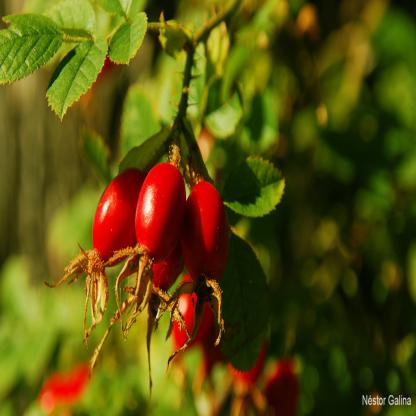Tomato: (44, 169, 144, 348), (108, 162, 186, 336), (160, 181, 229, 362), (170, 274, 215, 364)
